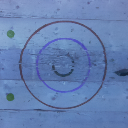Axe Tip: (114, 71, 125, 73)
